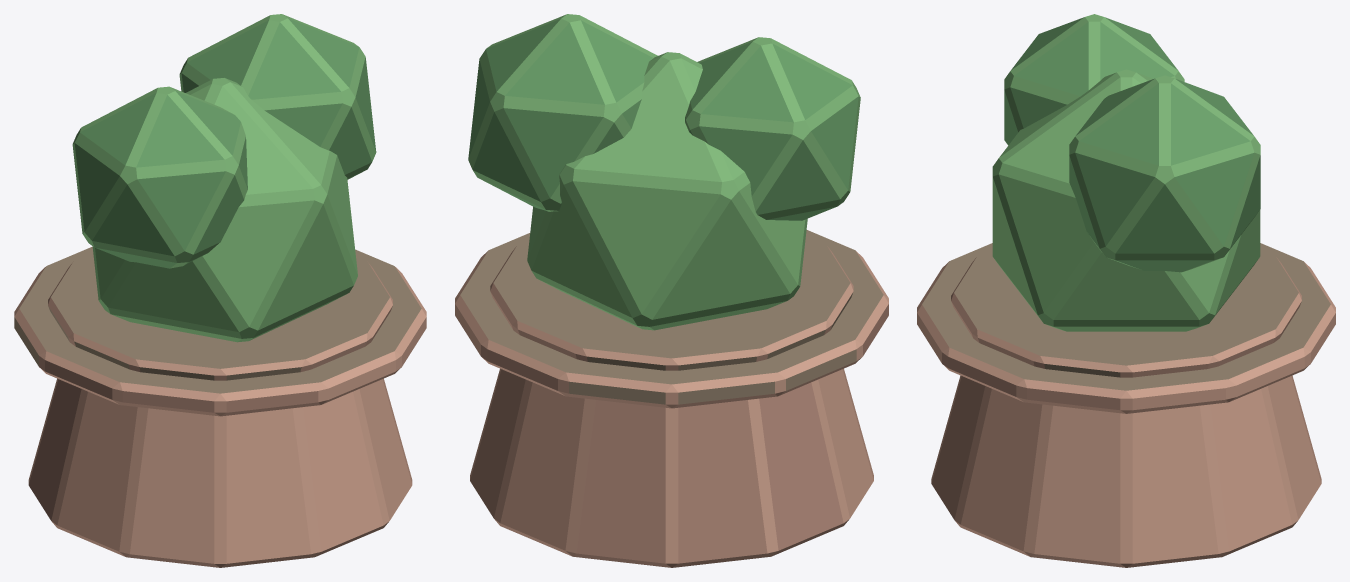
The picture shows the model from 3 angles, left to right: view 1: azimuth 30°, elevation 25°; view 2: azimuth 150°, elevation 25°; view 3: azimuth 270°, elevation 25°; orthographic projection. The views are drawn at different scales.
Parts seen in each view (by area): view 1: 花盆, 枝叶; view 2: 花盆, 枝叶; view 3: 花盆, 枝叶.
Part boxes in pixels (<box>): 花盆: <box>14,246,426,567</box>; 枝叶: <box>72,14,376,342</box>; 花盆: <box>455,230,888,567</box>; 枝叶: <box>468,14,860,330</box>; 花盆: <box>917,243,1335,567</box>; 枝叶: <box>992,14,1260,331</box>.
Size of the model in its own units: 131 by 154 by 131.
